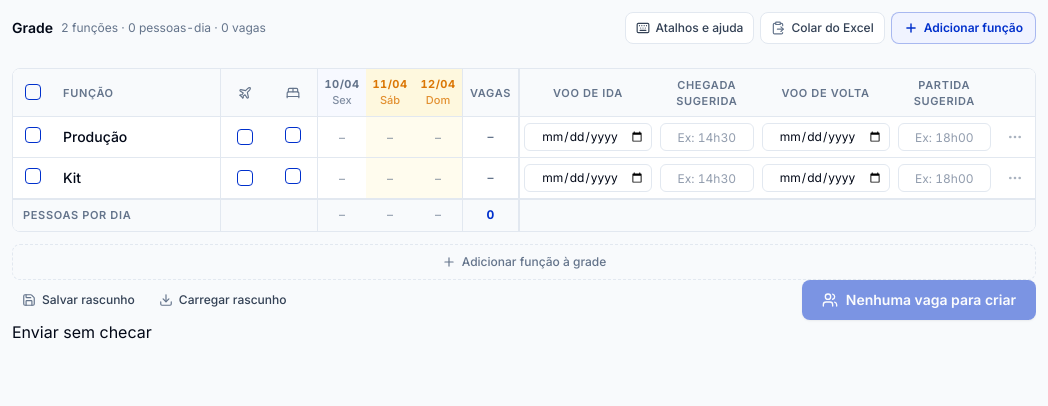
Test: FunctionsGrid › passagem marcada sem data de voo: aviso na grade e ícone na linha
The width and height of the screenshot is (1048, 406).
Click the checkbox named "Precisa de passagem — Kit" at (245,178), box [237,170,253,186]
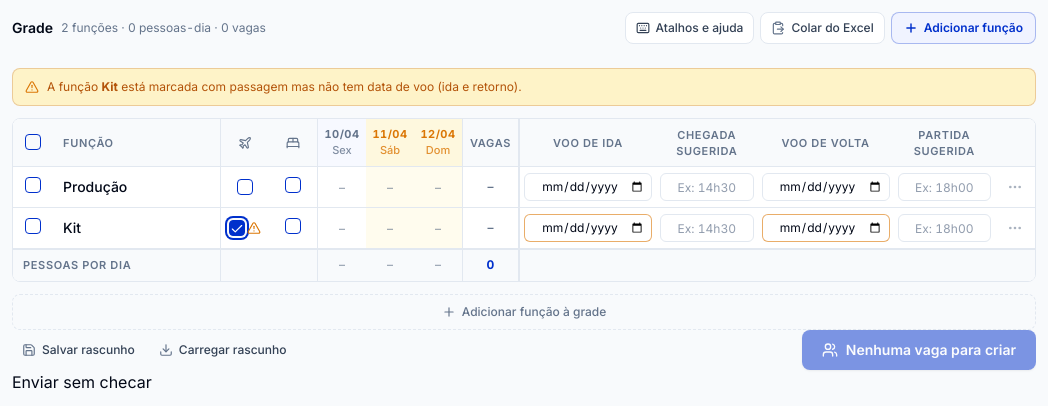
Check: the message reads "A função Kit está marcada com passagem mas não tem data de voo (ida e retorno).", box [12,68,1036,106]
Check: the picture named "Passagem marcada sem data de voo" is shown, box [247,221,261,235]
